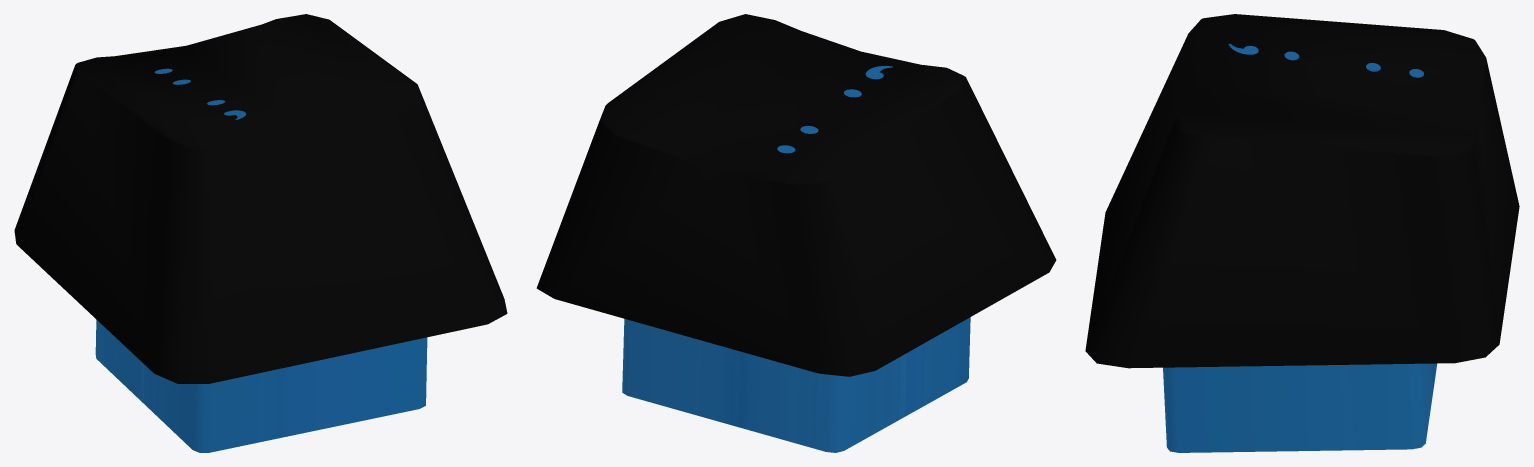
Rendered from key_seimcolon-BOLSG6j1.glb.
The picture shows the model from 3 angles, left to right: view 1: azimuth 30°, elevation 25°; view 2: azimuth 150°, elevation 25°; view 3: azimuth 270°, elevation 25°; orthographic projection. The views are drawn at different scales.
Parts seen in each view (by area): view 1: StudyShelf_1060; view 2: StudyShelf_1060; view 3: StudyShelf_1060.
Part boxes in pixels (x1,y1,x2,y2): StudyShelf_1060: (14, 14, 507, 452); StudyShelf_1060: (536, 14, 1056, 452); StudyShelf_1060: (1085, 14, 1519, 452).
Size of the model in its own units: 4.35 by 3.59 by 4.35.
Materials: 2 (1 with a texture image).
